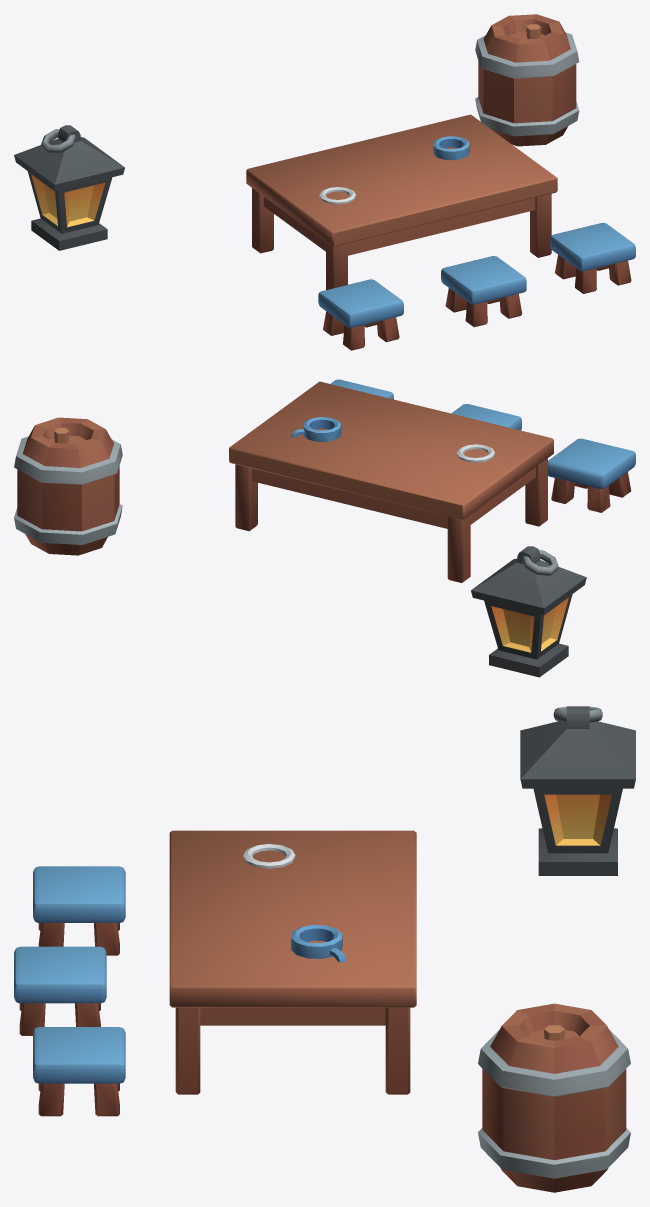
File: bld_patio_bar_2x2.glb
3 views of the same model, one above another, from view 1: azimuth 30°, elevation 25°; view 2: azimuth 150°, elevation 25°; view 3: azimuth 270°, elevation 25° (orthographic). The views are drawn at different scales.
Visible parts, largest first — view 1: table_medium_long, barrel, lantern_standing, chair_stool2, chair_stool3, chair_stool, mug_B; view 2: table_medium_long, barrel, lantern_standing, chair_stool, chair_stool2, mug_B, chair_stool3, mug_A; view 3: table_medium_long, barrel, lantern_standing, chair_stool3, chair_stool2, chair_stool, mug_B, mug_A.
Boxes of the visible parts, x1=… form: table_medium_long: x1=246, y1=114, x2=557, y2=289; barrel: x1=475, y1=14, x2=579, y2=146; lantern_standing: x1=14, y1=125, x2=124, y2=250; chair_stool2: x1=441, y1=256, x2=526, y2=327; chair_stool3: x1=550, y1=222, x2=635, y2=293; chair_stool: x1=318, y1=279, x2=403, y2=350; mug_B: x1=433, y1=136, x2=469, y2=160; table_medium_long: x1=229, y1=381, x2=553, y2=582; barrel: x1=14, y1=417, x2=122, y2=555; lantern_standing: x1=471, y1=546, x2=586, y2=677; chair_stool: x1=548, y1=438, x2=635, y2=512; chair_stool2: x1=451, y1=404, x2=521, y2=430; mug_B: x1=291, y1=417, x2=341, y2=441; chair_stool3: x1=330, y1=379, x2=393, y2=399; mug_A: x1=456, y1=444, x2=495, y2=462; table_medium_long: x1=169, y1=830, x2=416, y2=1094; barrel: x1=478, y1=1003, x2=630, y2=1192; lantern_standing: x1=520, y1=706, x2=635, y2=875; chair_stool3: x1=33, y1=1027, x2=125, y2=1116; chair_stool2: x1=14, y1=946, x2=106, y2=1035; chair_stool: x1=33, y1=866, x2=125, y2=955; mug_B: x1=291, y1=925, x2=346, y2=962; mug_A: x1=243, y1=844, x2=295, y2=868.
Size of the model in its own units: 1.83 by 0.3516 by 1.31.
6 materials, 6 textured.
